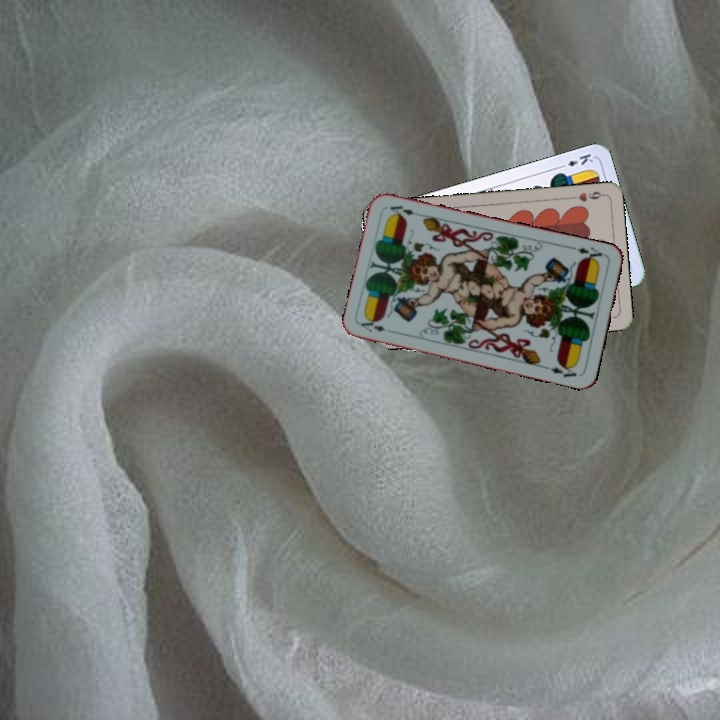EA: (573, 243, 608, 265), (357, 315, 387, 335)
EK: (555, 149, 596, 171)
H9: (566, 187, 606, 204)
